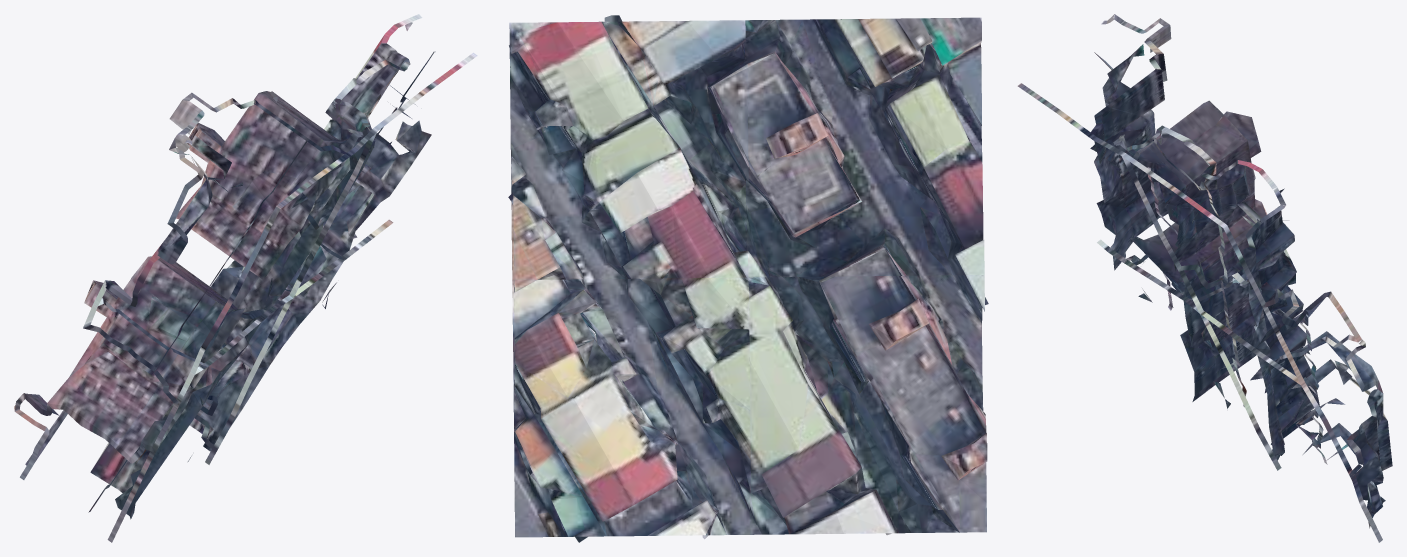
The picture shows the model from 3 angles, left to right: view 1: azimuth 30°, elevation 25°; view 2: azimuth 150°, elevation 25°; view 3: azimuth 270°, elevation 25°; orthographic projection. The views are drawn at different scales.
Bounding box in the file's own units: 85.64 × 80.07 × 66.03.
2 materials, 2 textured.
